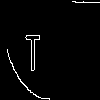T: (25, 25, 41, 72)
